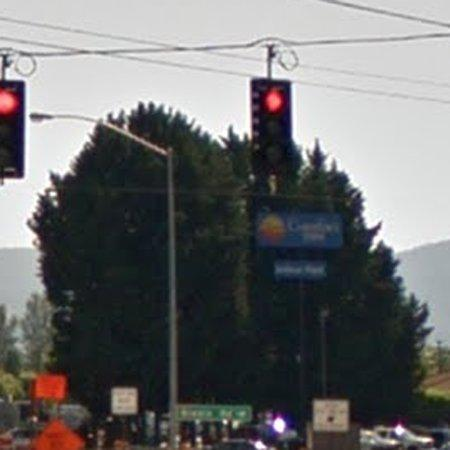traffic lights: (251, 76, 293, 179), (0, 78, 26, 182)
